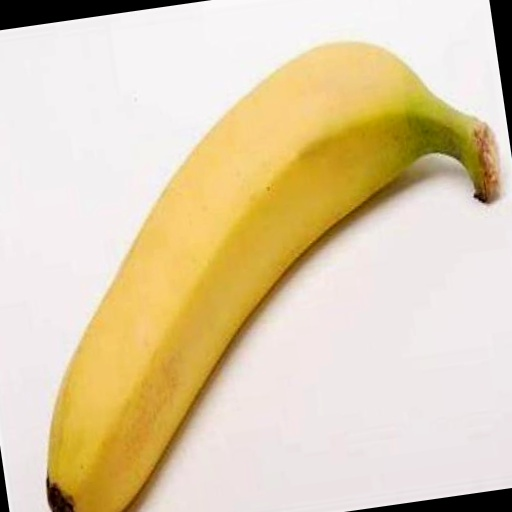fruit: (47, 43, 497, 512)
